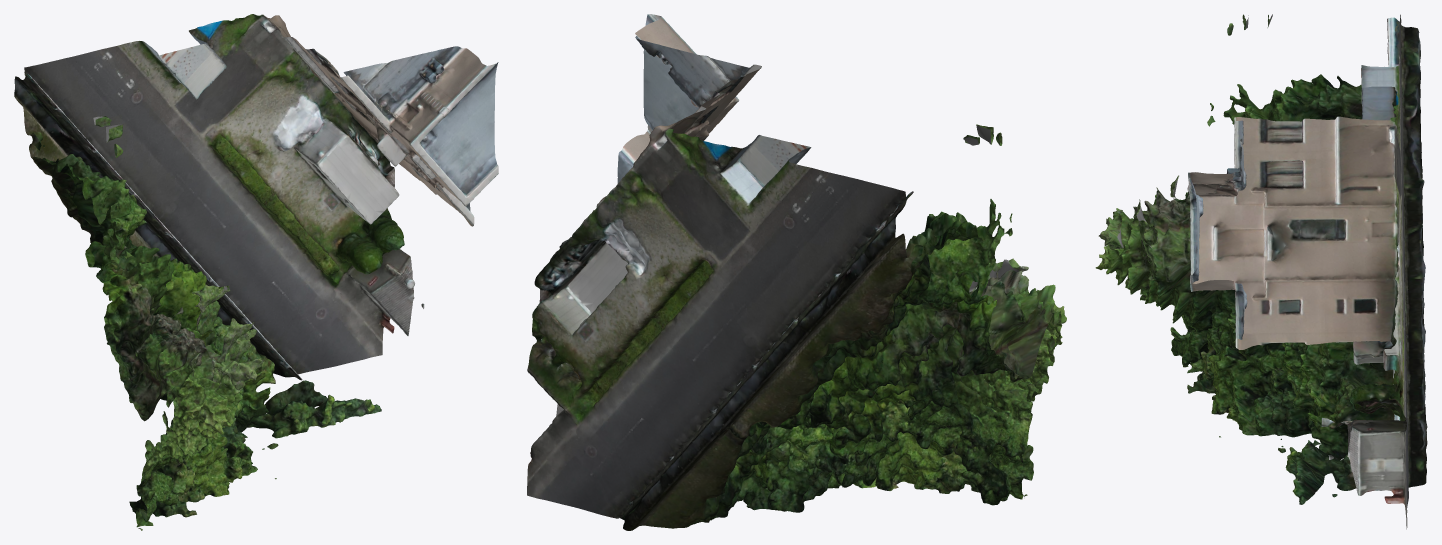
The model's file is Tile_+005_+020.fbx.
3 views of the same model, side by side, from view 1: azimuth 30°, elevation 25°; view 2: azimuth 150°, elevation 25°; view 3: azimuth 270°, elevation 25° (orthographic). The views are drawn at different scales.
Parts seen in each view (by area): view 1: DefaultName; view 2: DefaultName; view 3: DefaultName.
Part boxes in pixels (left/top/right/bottom): DefaultName: left=14, top=14, right=498, bottom=530; DefaultName: left=527, top=14, right=1066, bottom=530; DefaultName: left=1095, top=14, right=1427, bottom=529.
Size of the model in its own units: 22.54 by 22.54 by 19.24.
